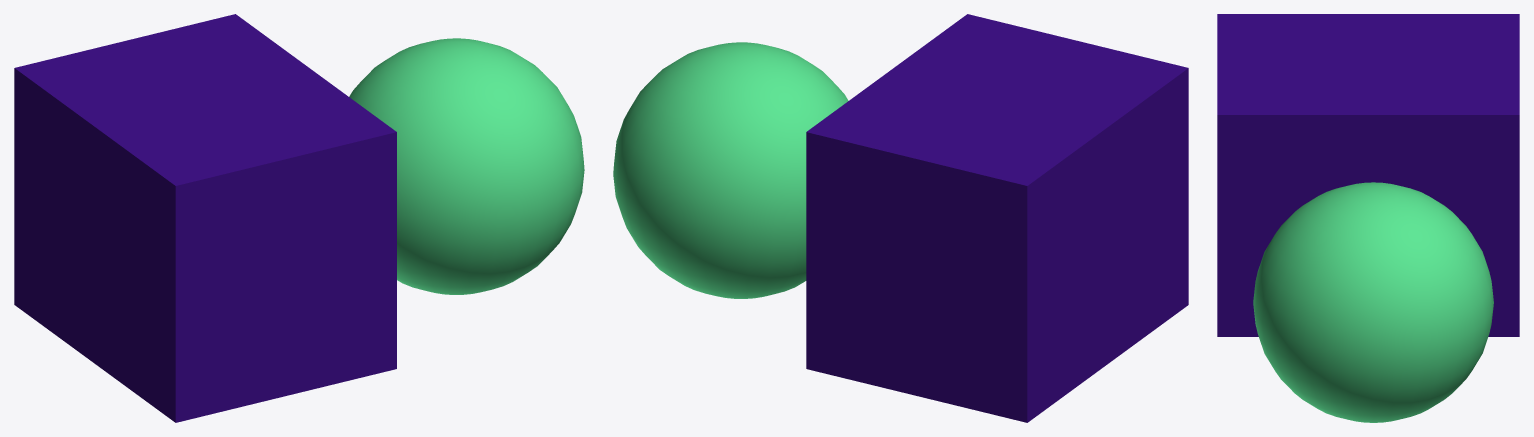
File: test_oculling.DAE
The picture shows the model from 3 angles, left to right: view 1: azimuth 30°, elevation 25°; view 2: azimuth 150°, elevation 25°; view 3: azimuth 270°, elevation 25°; orthographic projection. The views are drawn at different scales.
Parts seen in each view (by area): view 1: Box001, Sphere001; view 2: Box001, Sphere001; view 3: Box001, Sphere001.
Boxes of the visible parts, x1,y1,x2,y2 form: Box001: (14,14,396,422); Sphere001: (349,38,584,294); Box001: (806,14,1188,422); Sphere001: (613,42,848,298); Box001: (1217,14,1519,336); Sphere001: (1253,182,1493,422).
Bounding box in the file's own units: 120 × 70.45 × 59.51.
